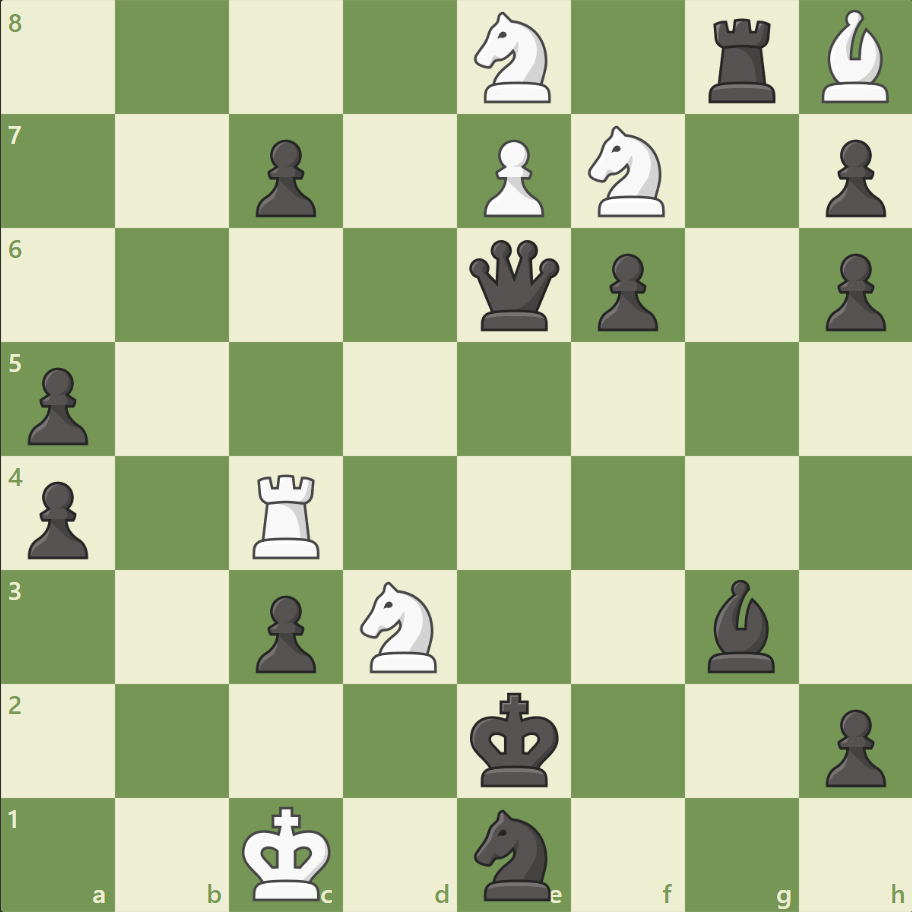B: (812, 6, 896, 109)
K: (238, 798, 338, 906)
N: (351, 575, 449, 677), (465, 7, 562, 110), (579, 121, 676, 223)
P: (474, 132, 549, 223)
R: (246, 466, 329, 563)
b: (698, 574, 782, 676)
k: (465, 685, 565, 793)
n: (465, 802, 562, 904)
p: (247, 132, 322, 223), (20, 359, 95, 450), (20, 473, 95, 564), (247, 586, 322, 677), (815, 132, 889, 223), (588, 246, 662, 337), (815, 246, 889, 337), (815, 700, 889, 791)
q: (464, 236, 563, 335)
r: (700, 12, 783, 109)
